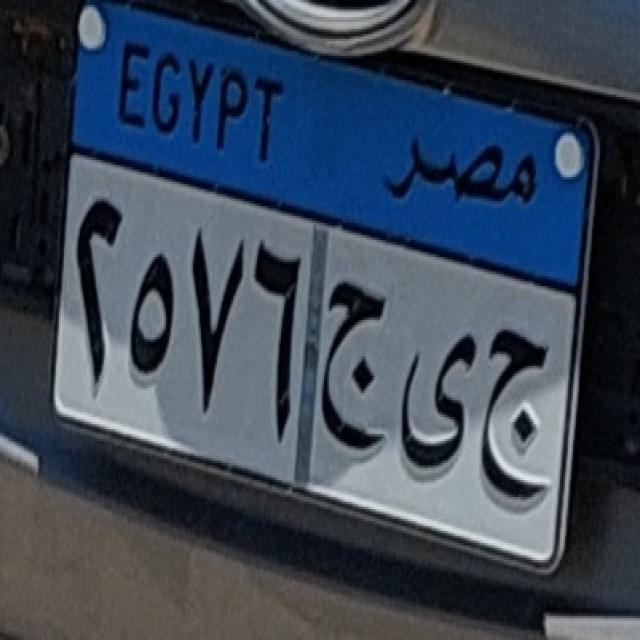2: (56, 186, 138, 400)
5: (121, 248, 186, 386)
6: (231, 240, 318, 448)
7: (187, 220, 254, 422)
Yeeh: (394, 310, 482, 496)
geem: (468, 316, 565, 532), (312, 278, 404, 464)
